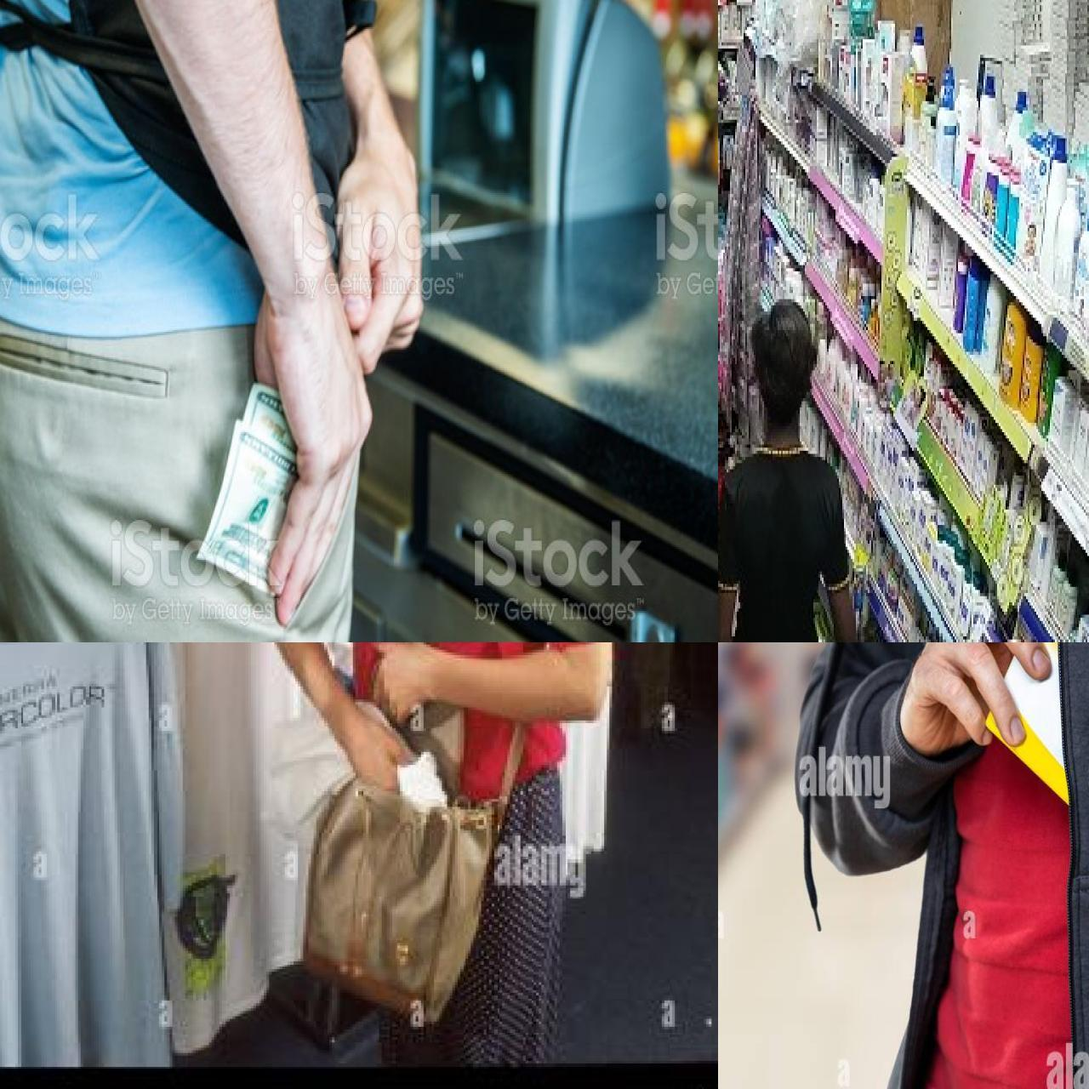shoplifting: (9, 649, 691, 1079), (1, 150, 604, 635)
